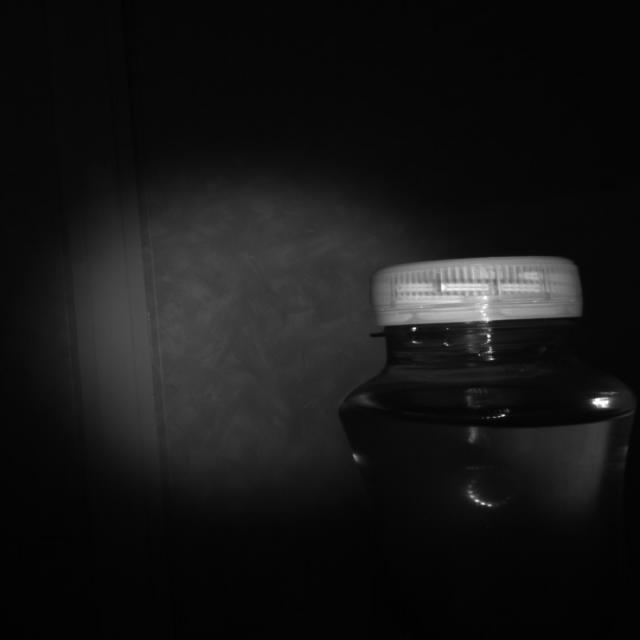Good: (363, 253, 584, 330)
